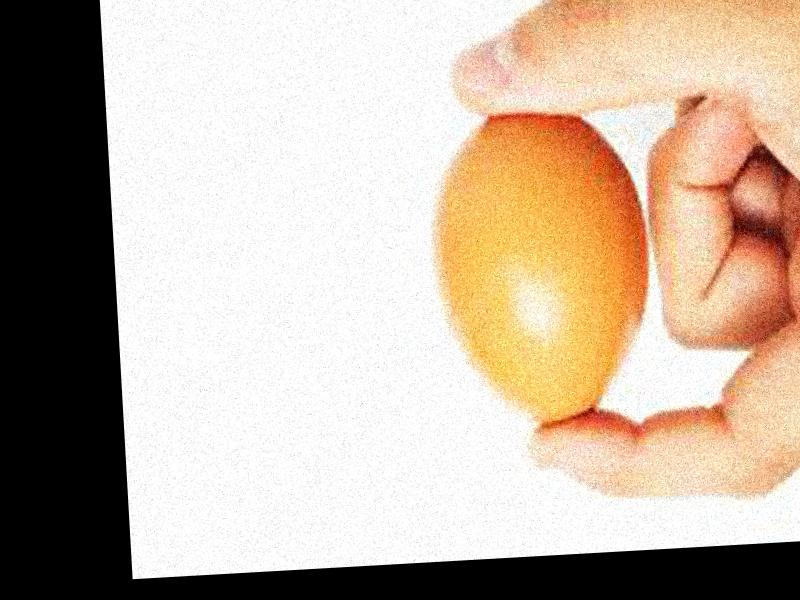Eggs: (423, 106, 659, 436)
